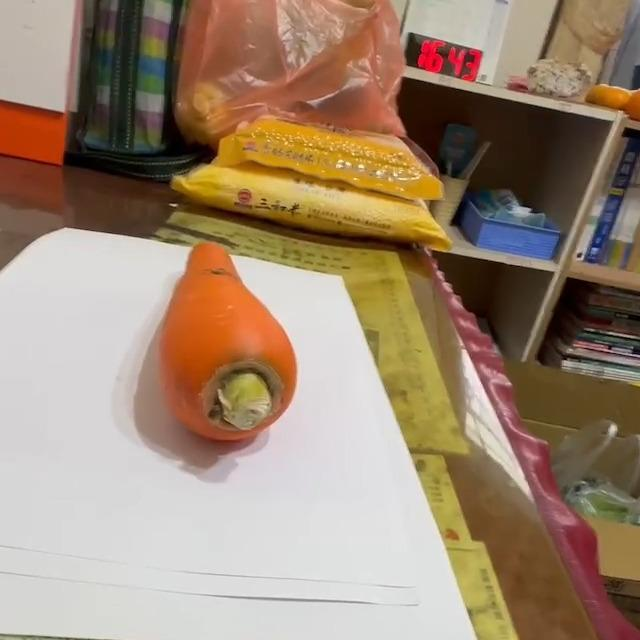carrot: (152, 239, 303, 446)
